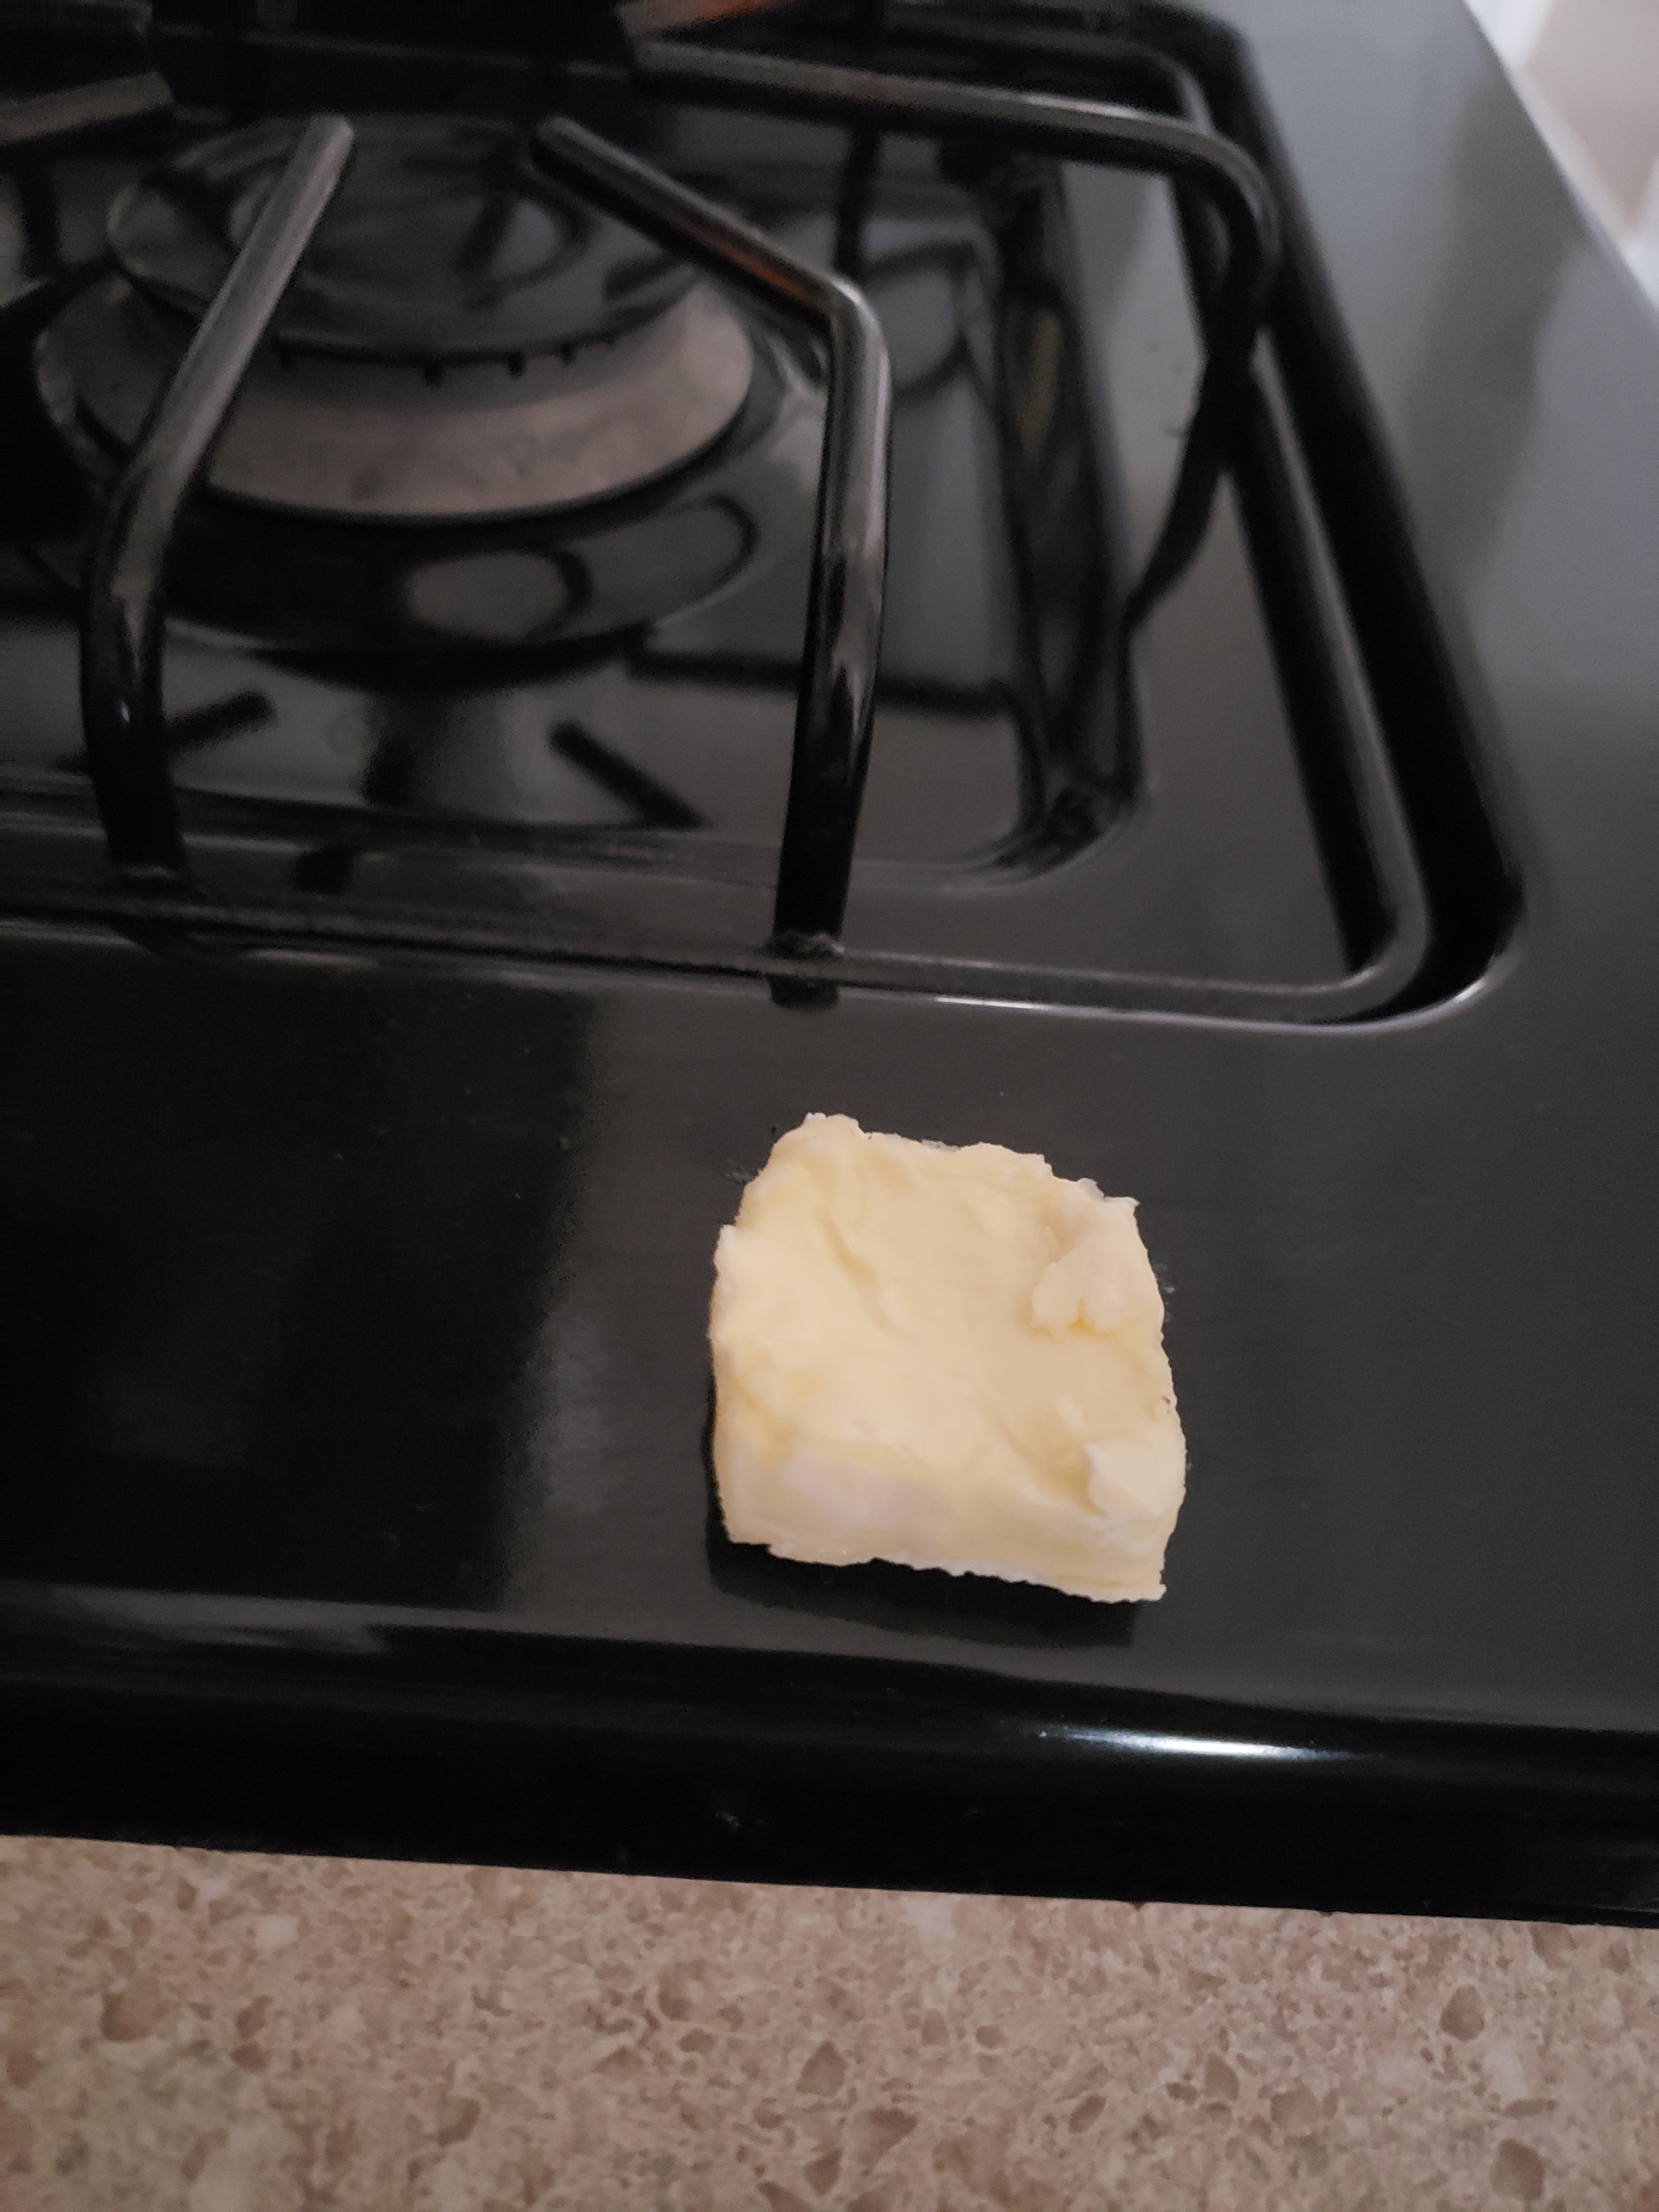Butter: (711, 1113, 1183, 1599)
